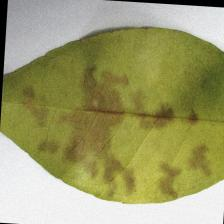canker: (23, 63, 203, 185)
